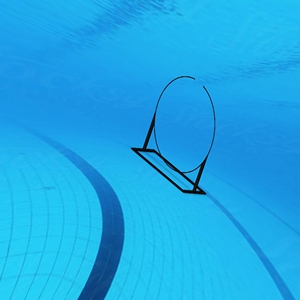circle: (130, 74, 217, 200)
